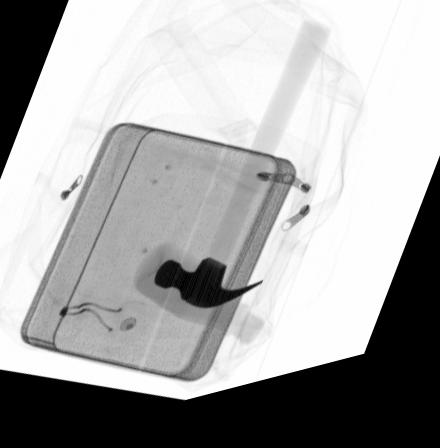Hammer: (152, 32, 334, 319)
